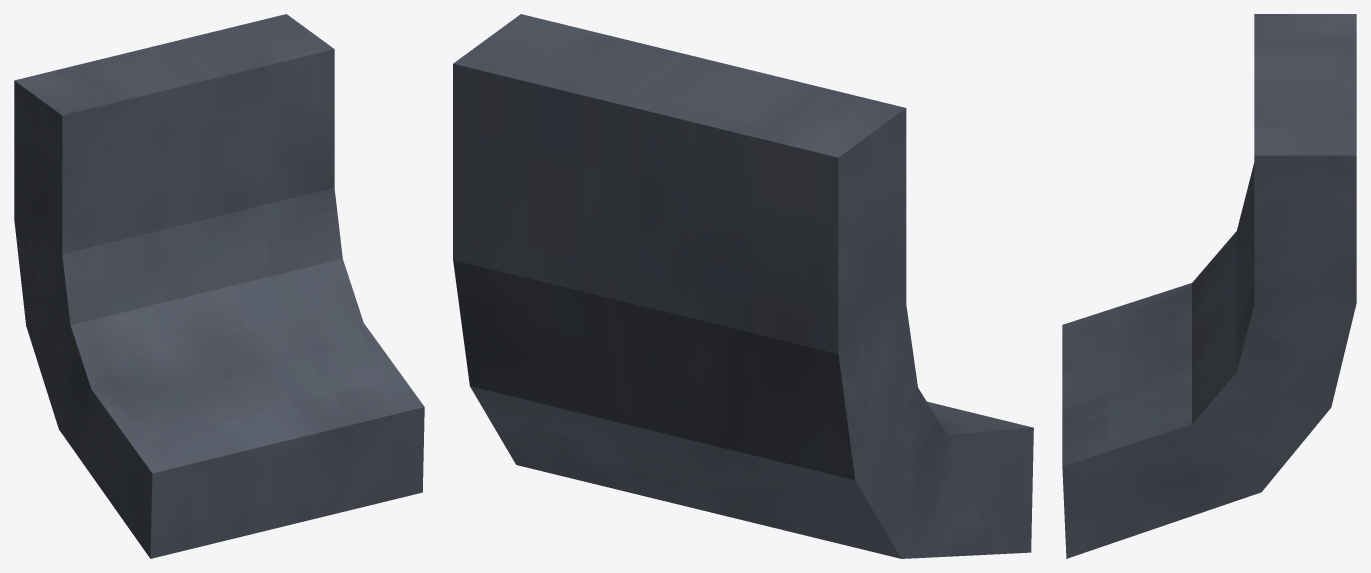
The model's file is balk_11.glb.
3 renders of one model, left to right at view 1: azimuth 30°, elevation 25°; view 2: azimuth 150°, elevation 25°; view 3: azimuth 270°, elevation 25°, orthographic. The views are drawn at different scales.
Visible parts, largest first — view 1: Куб.006; view 2: Куб.006; view 3: Куб.006.
Part boxes in pixels (x1,y1,x2,y2): Куб.006: (14, 14, 424, 558); Куб.006: (453, 14, 1033, 558); Куб.006: (1062, 14, 1356, 558).
Bounding box in the file's own units: 2.49 × 3.31 × 2.18.
Materials: 1 (1 with a texture image).
